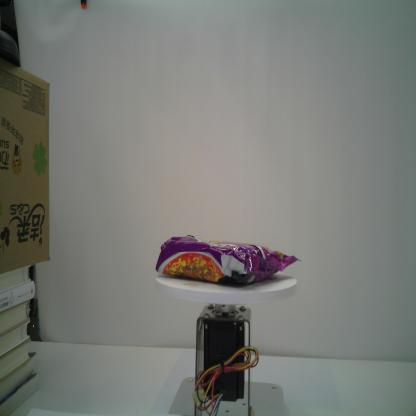Instant Noodles: (155, 235, 302, 286)
